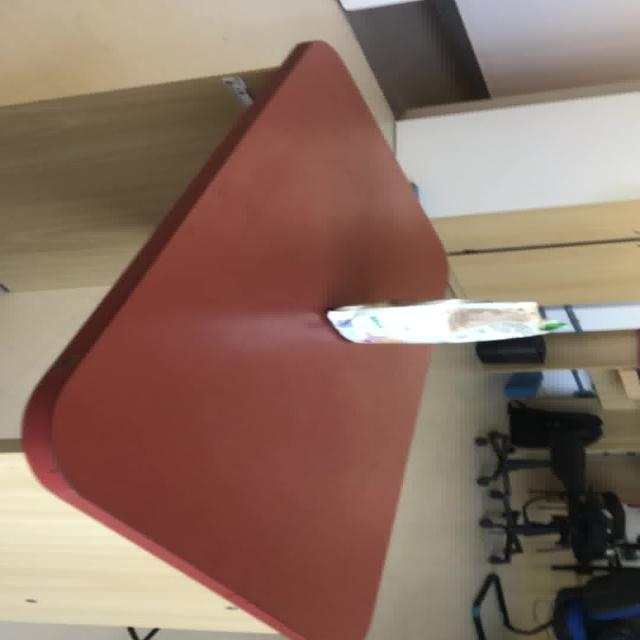corn flakes: (20, 38, 453, 637), (324, 297, 567, 344)
